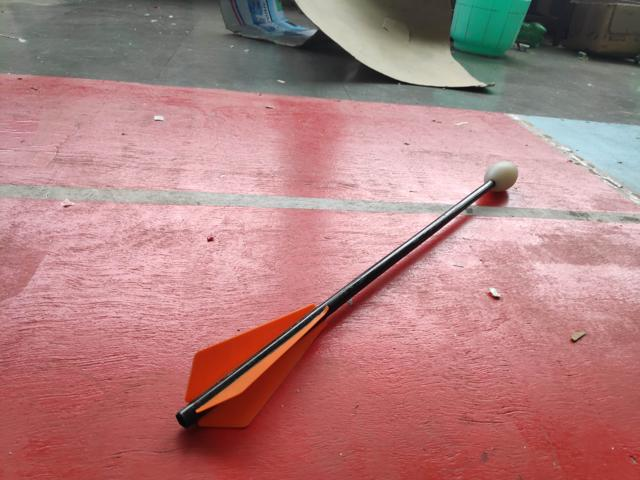Head: (479, 159, 520, 194)
Tail: (168, 302, 332, 434)
